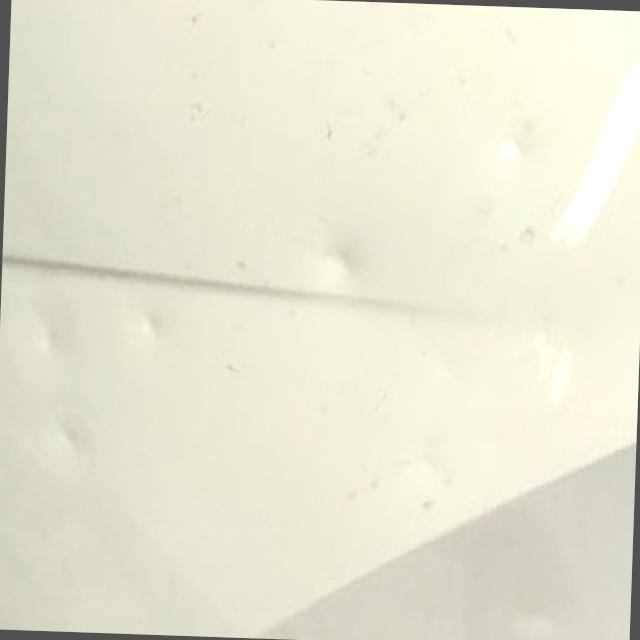dent: (452, 512, 586, 632), (8, 304, 76, 372), (38, 405, 90, 472), (122, 302, 174, 357), (410, 438, 449, 491), (314, 242, 362, 284), (505, 130, 529, 160)
